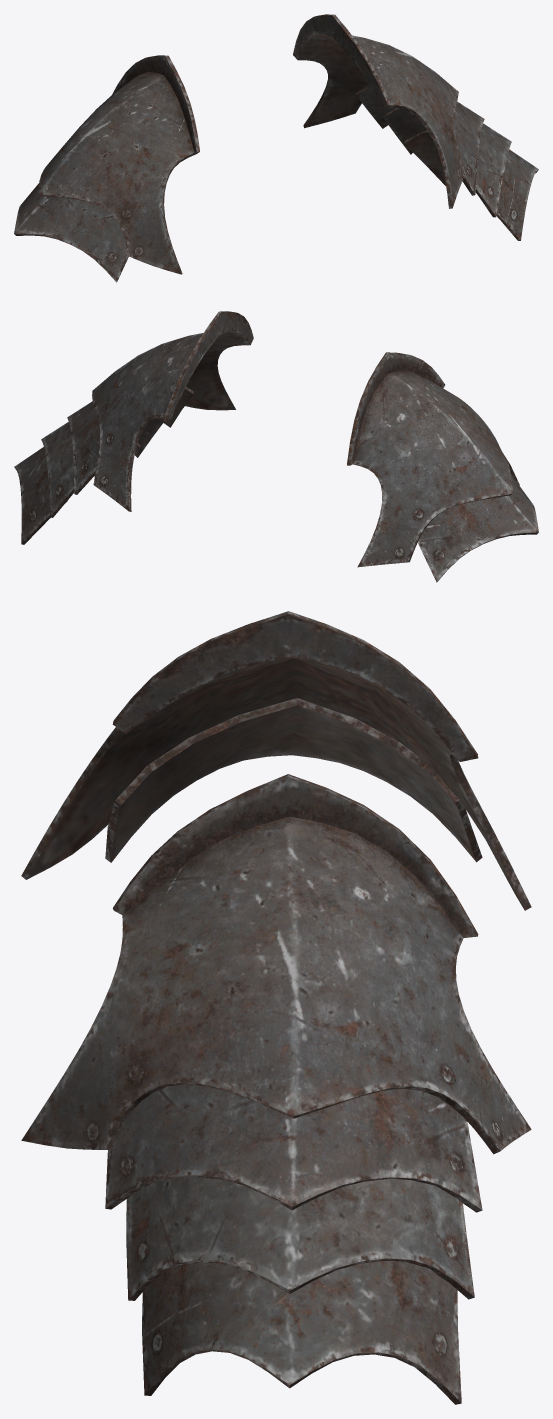
File: sk_gb_uruk_pauldron_elite_a.fbx
3 renders of one model, top to bottom at view 1: azimuth 30°, elevation 25°; view 2: azimuth 150°, elevation 25°; view 3: azimuth 270°, elevation 25°, orthographic. The views are drawn at different scales.
Parts seen in each view (by area): view 1: sk_gb_uruk_pauldron_elite_a; view 2: sk_gb_uruk_pauldron_elite_a; view 3: sk_gb_uruk_pauldron_elite_a.
Part boxes in pixels (x1=…): sk_gb_uruk_pauldron_elite_a: x1=14, y1=14, x2=538, y2=282; sk_gb_uruk_pauldron_elite_a: x1=14, y1=311, x2=538, y2=582; sk_gb_uruk_pauldron_elite_a: x1=21, y1=611, x2=531, y2=1404.
Size of the model in its own units: 0.7757 by 0.327 by 0.3385.
Materials: 1 (1 with a texture image).
